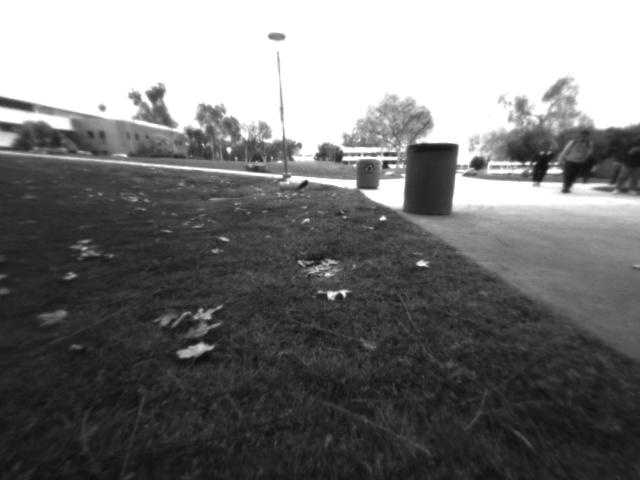trashcan: (401, 132, 463, 226), (351, 150, 384, 197)
